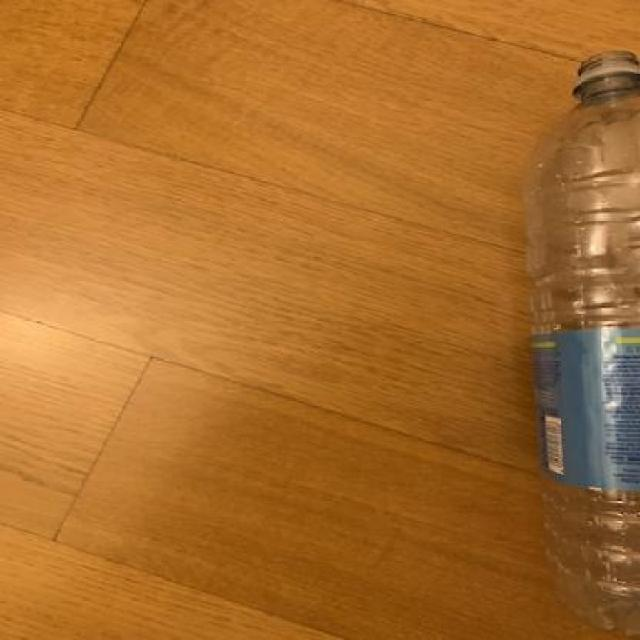trash: (512, 34, 640, 640)
